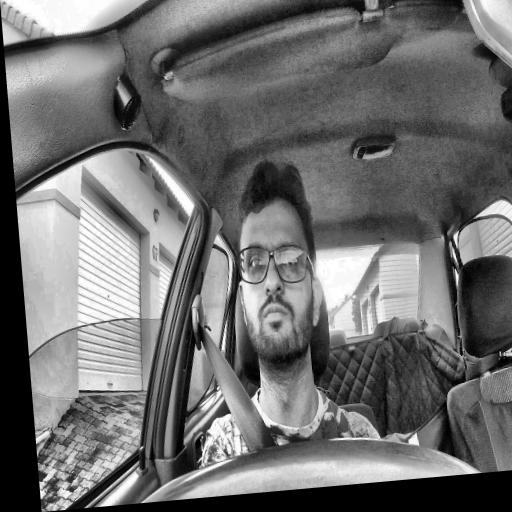awake: (228, 155, 328, 371)
